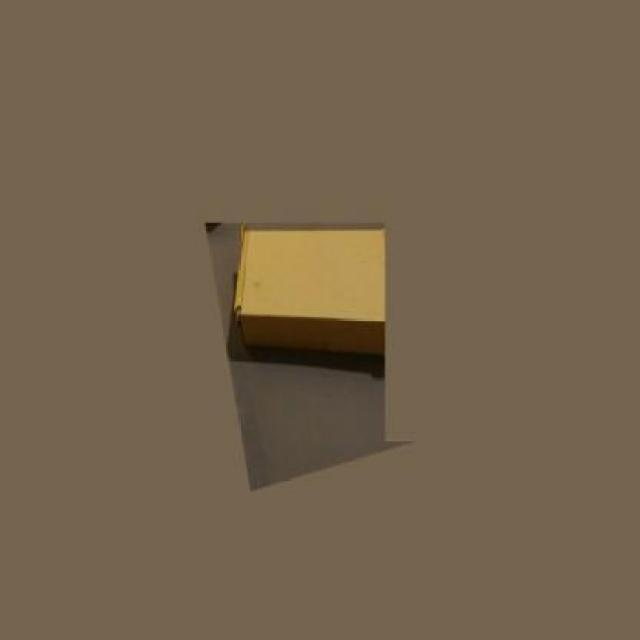box: (234, 227, 389, 360)
